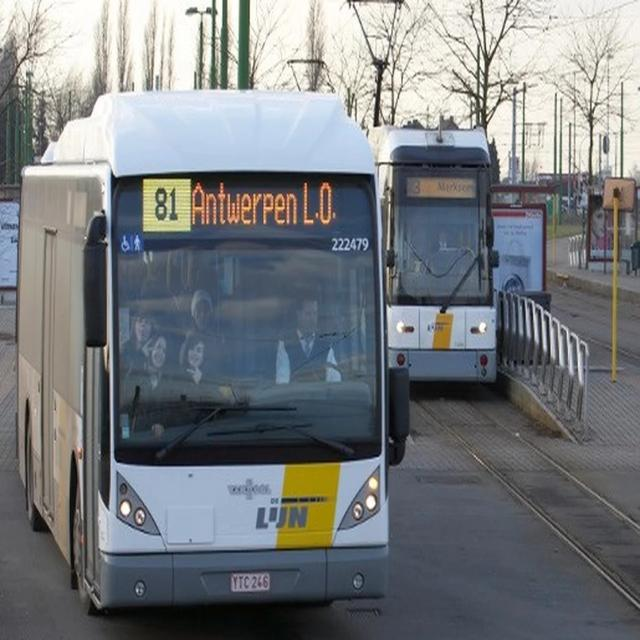bus-number: (143, 178, 190, 231)
